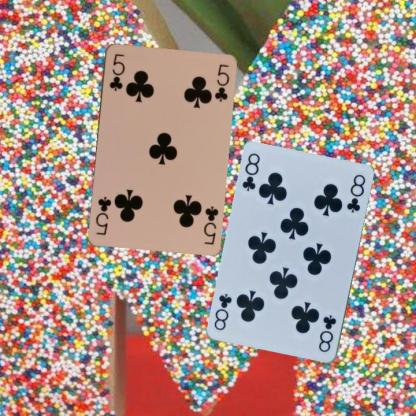5c: (106, 51, 126, 92), (200, 204, 219, 246)
8c: (240, 151, 262, 193), (316, 313, 338, 354)
